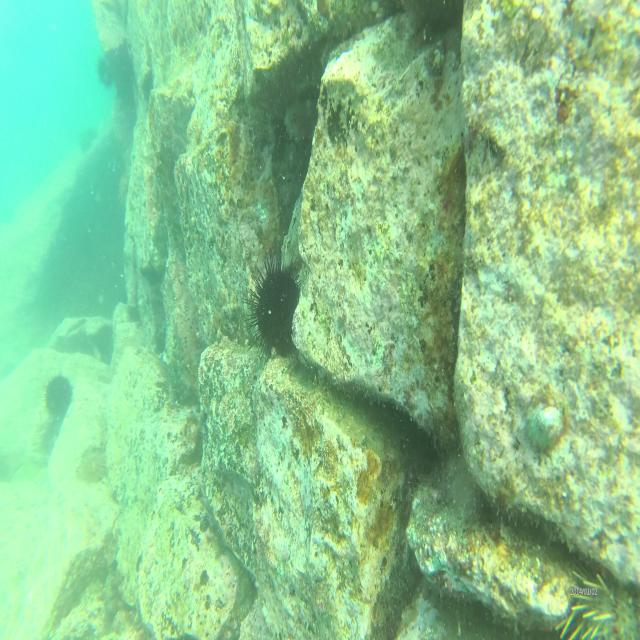echinus: (558, 556, 639, 640), (252, 258, 306, 355), (44, 372, 74, 417), (97, 51, 114, 92), (78, 126, 96, 152)
scallop: (527, 401, 565, 451)
